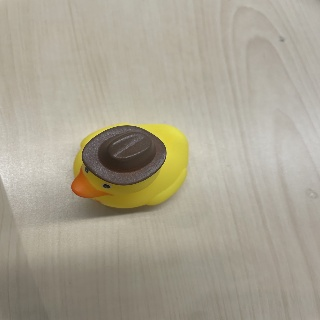duck_specialty: (70, 121, 187, 209)
